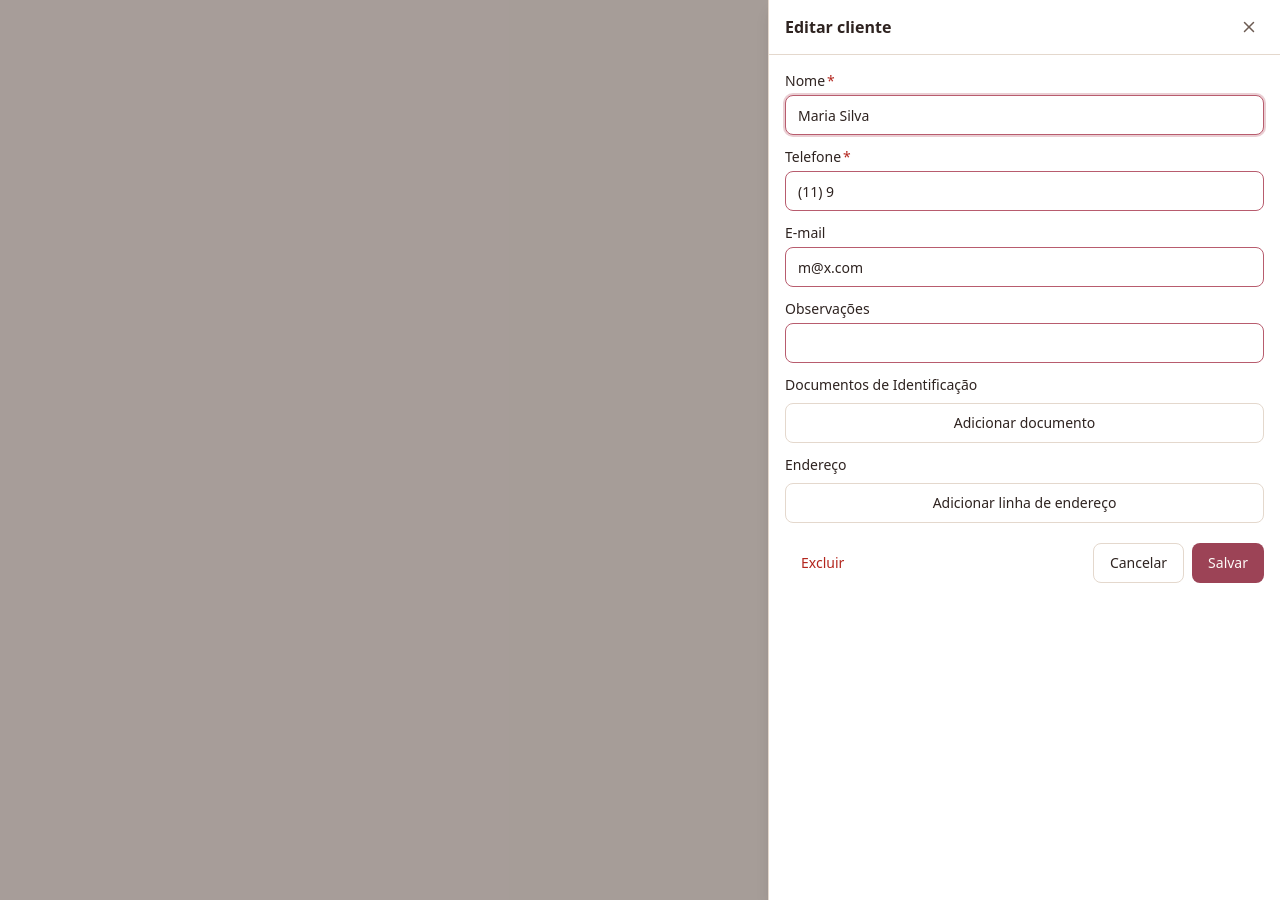
ClientDrawer › shows the translated error when deleting a client with allocation history
Click the button "Excluir".
click(823, 563)  # box [785,543,860,583]
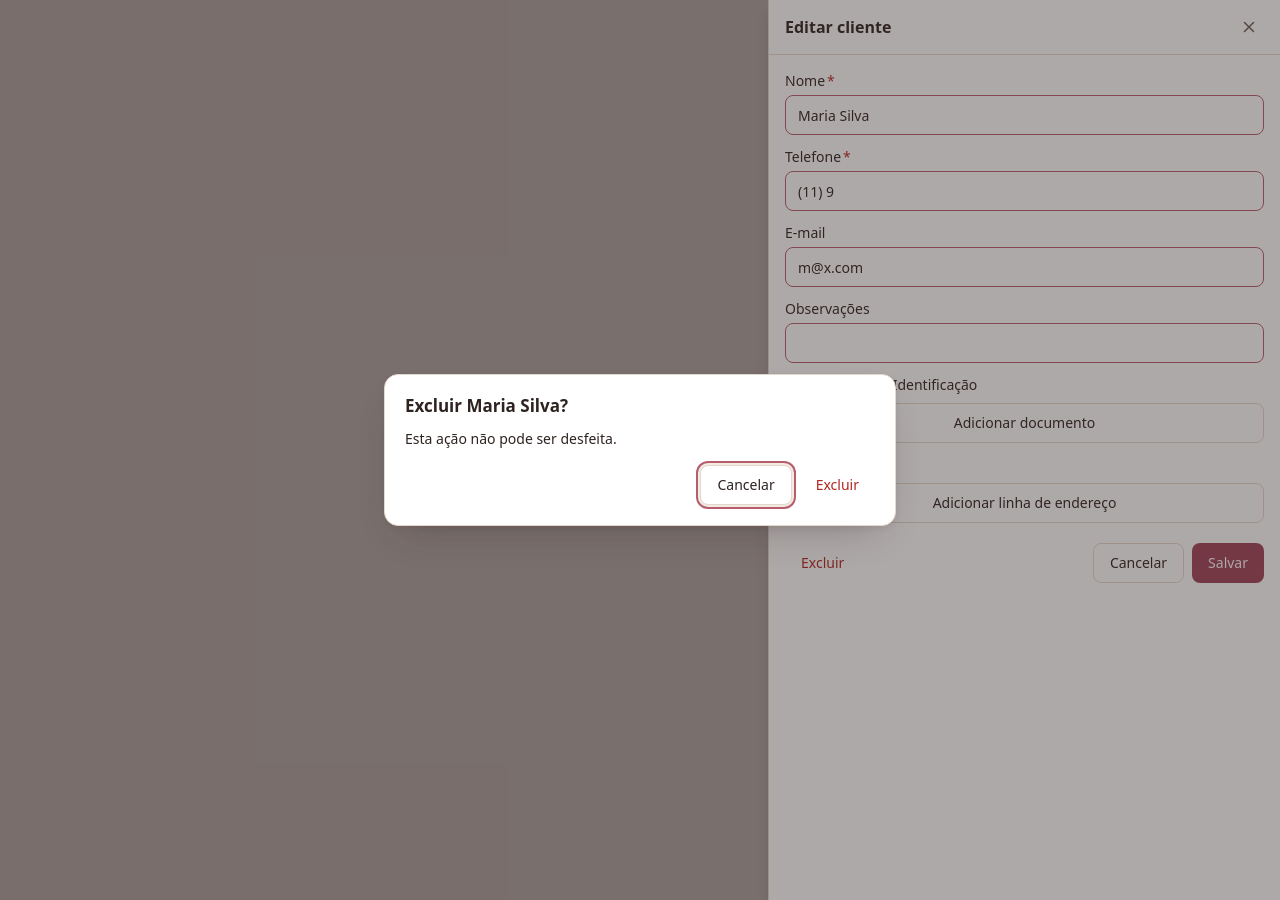
Click the button "Excluir".
click(837, 485)  # box [800,465,875,505]
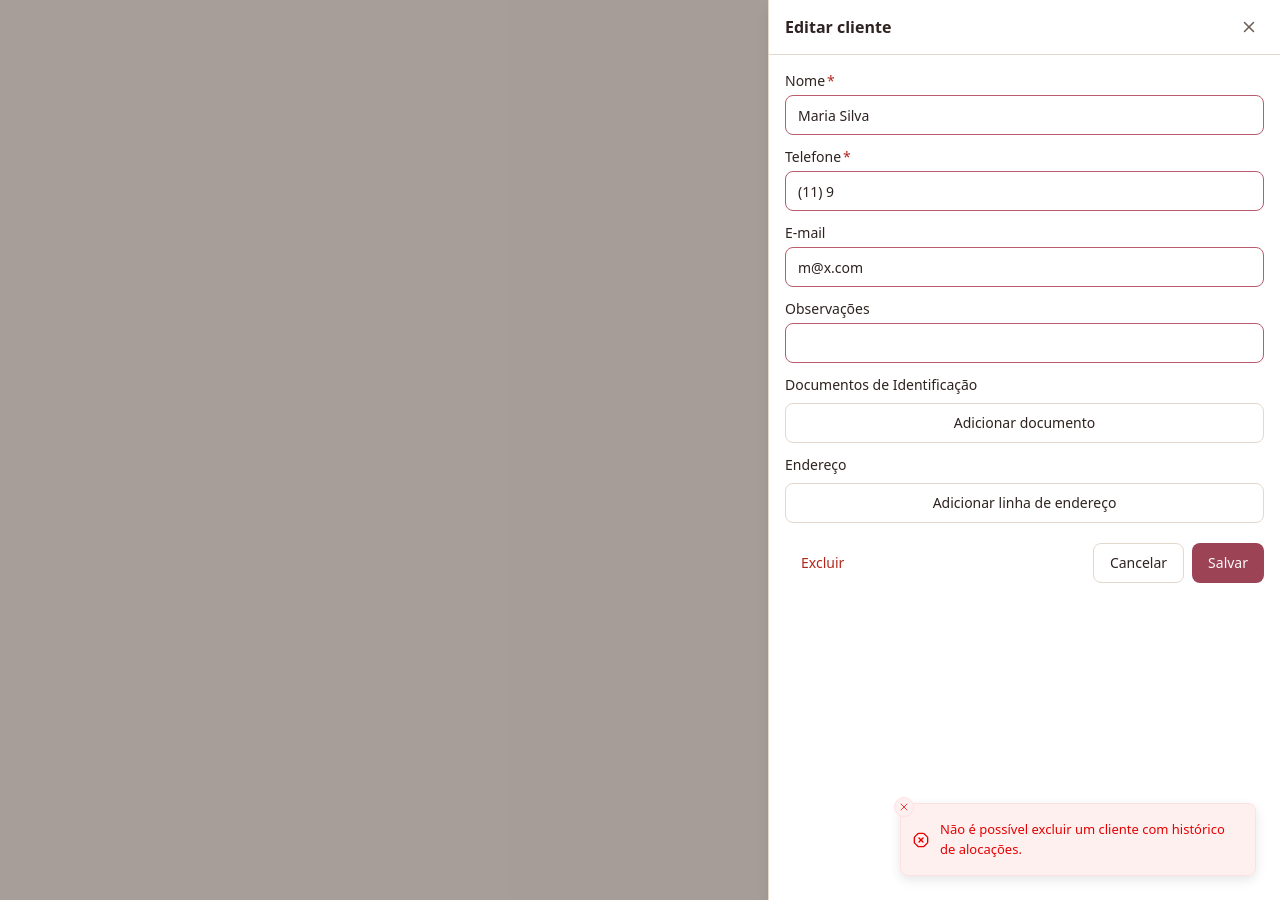
Check: the text "Não é possível excluir um cliente com histórico de alocações." is shown, box [940,820,1239,859]
